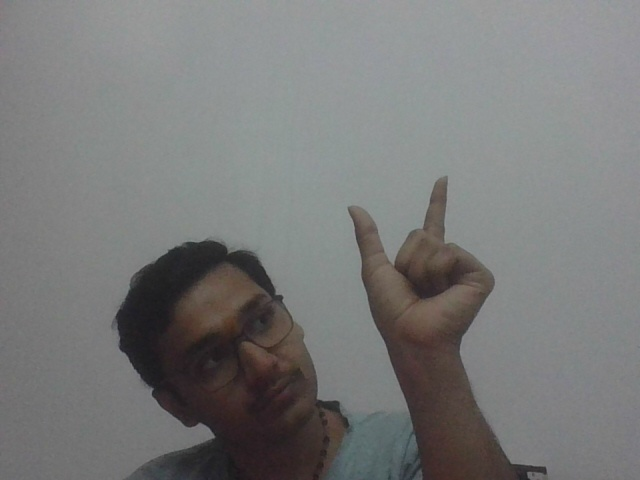U: (340, 170, 500, 343)
